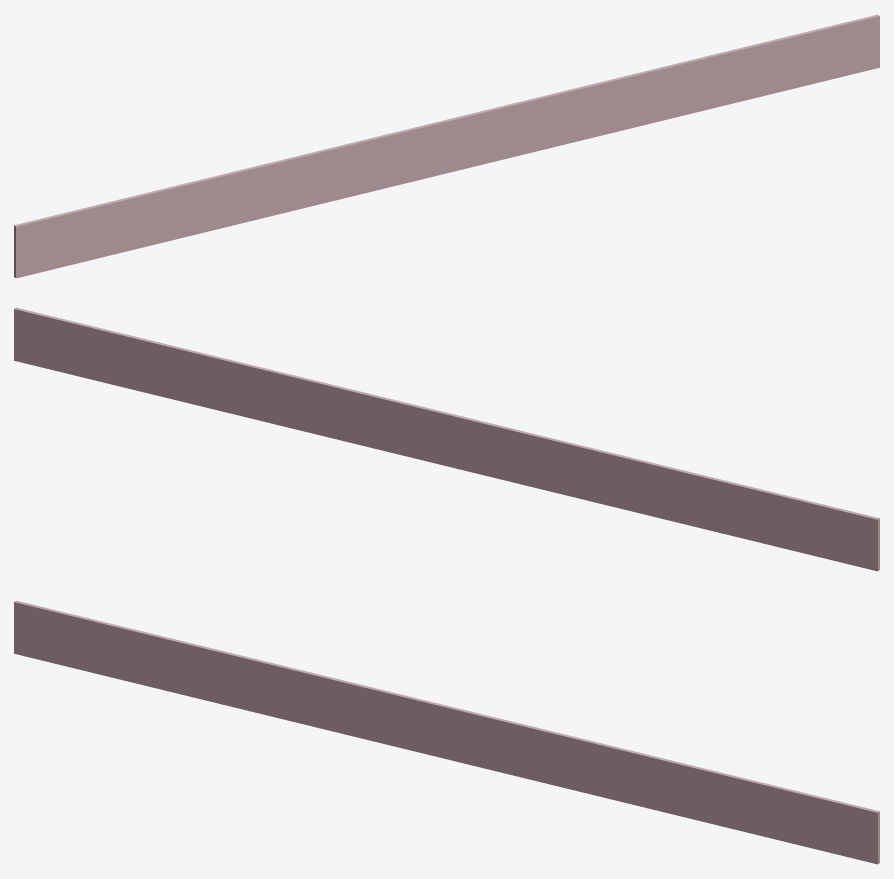
The model's file is board.glb.
3 views of the same model, one above another, from view 1: azimuth 30°, elevation 25°; view 2: azimuth 150°, elevation 25°; view 3: azimuth 330°, elevation 25° (orthographic).
Visible parts, largest first — view 1: Substrate_Layer_0; view 2: Substrate_Layer_0; view 3: Substrate_Layer_0.
Part boxes in pixels (x1,y1,x2,y2): Substrate_Layer_0: (14,14,879,278); Substrate_Layer_0: (14,307,879,571); Substrate_Layer_0: (14,600,879,864).
Bounding box in the file's own units: 0.7 × 0.04 × 0.003.
